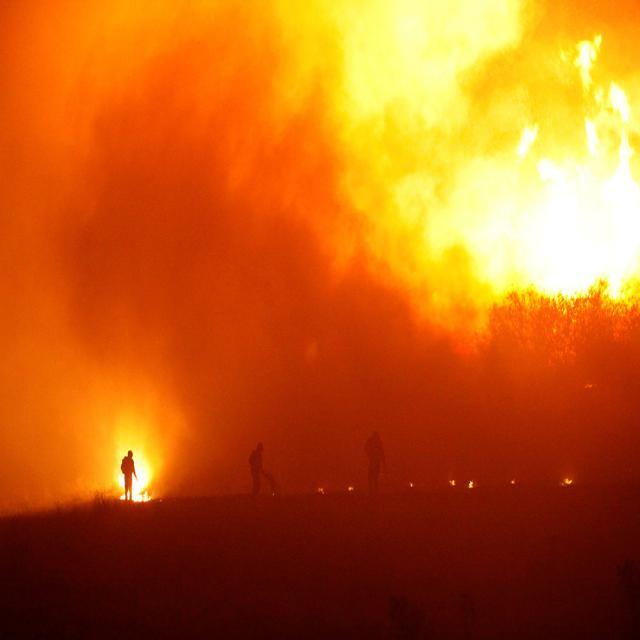Fire: (418, 55, 630, 317), (120, 469, 154, 503)
Smoke: (62, 76, 423, 418)
